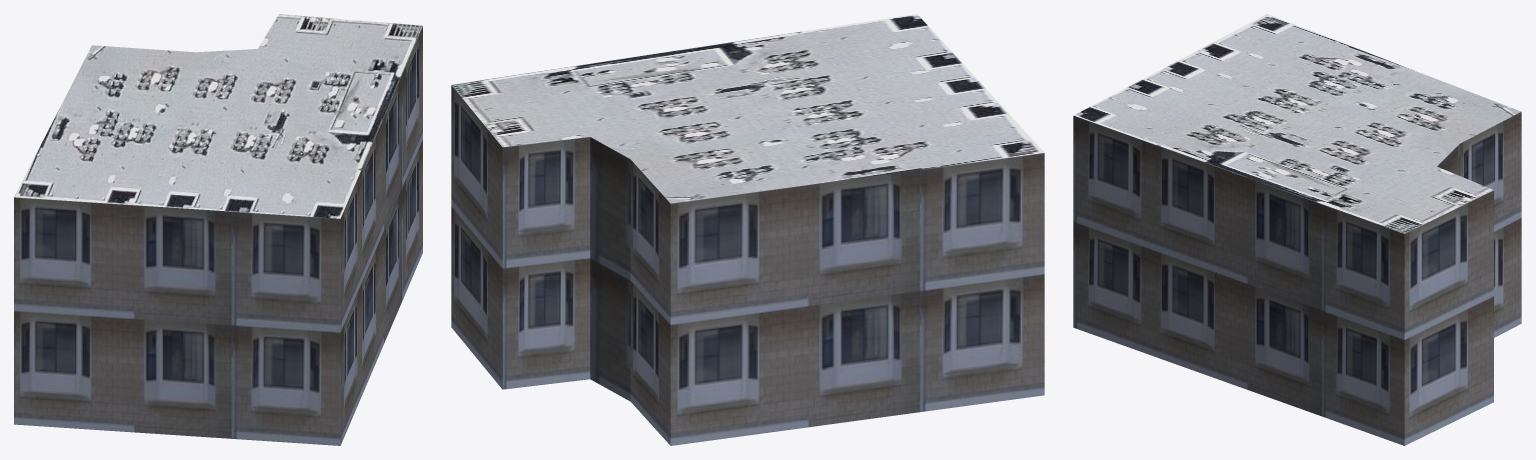
Rendered from ResTex__4683.fbx.
The picture shows the model from 3 angles, left to right: view 1: azimuth 30°, elevation 25°; view 2: azimuth 150°, elevation 25°; view 3: azimuth 270°, elevation 25°; orthographic projection. The views are drawn at different scales.
Parts seen in each view (by area): view 1: CityEngineMaterial_3_m, CityEngineMaterial_m; view 2: CityEngineMaterial_3_m, CityEngineMaterial_m; view 3: CityEngineMaterial_3_m, CityEngineMaterial_m.
Boxes of the visible parts, x1=… form: CityEngineMaterial_3_m: x1=14, y1=26, x2=422, y2=445; CityEngineMaterial_m: x1=14, y1=14, x2=422, y2=218; CityEngineMaterial_3_m: x1=451, y1=85, x2=1044, y2=445; CityEngineMaterial_m: x1=451, y1=14, x2=1044, y2=203; CityEngineMaterial_3_m: x1=1073, y1=111, x2=1521, y2=445; CityEngineMaterial_m: x1=1074, y1=14, x2=1520, y2=233.
Size of the model in its own units: 13.34 by 6 by 11.49.
Materials: 2 (2 with a texture image).
